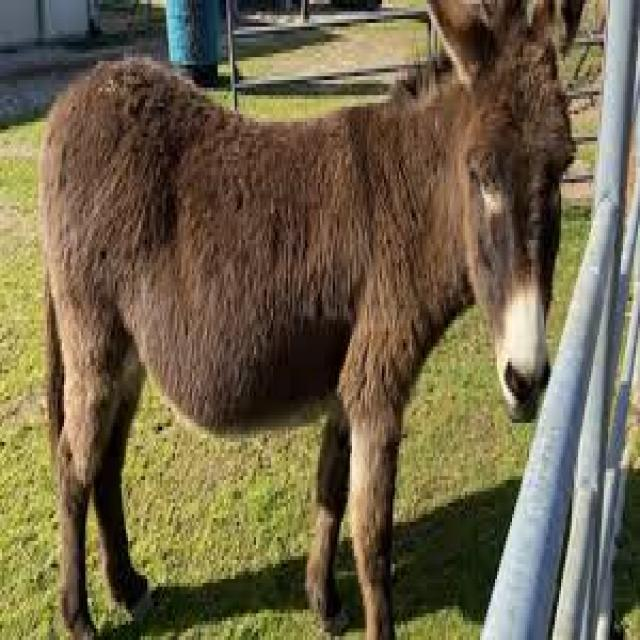Donkey: (14, 0, 614, 640)
